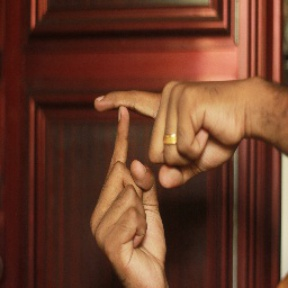T: (77, 77, 175, 203)
